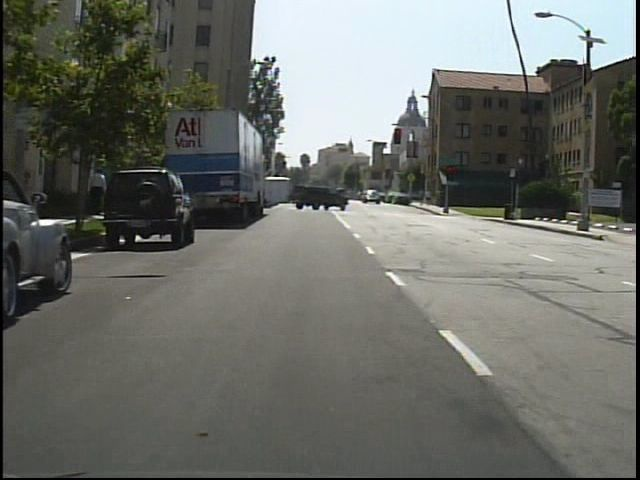person: (91, 164, 112, 216), (418, 188, 428, 210)
